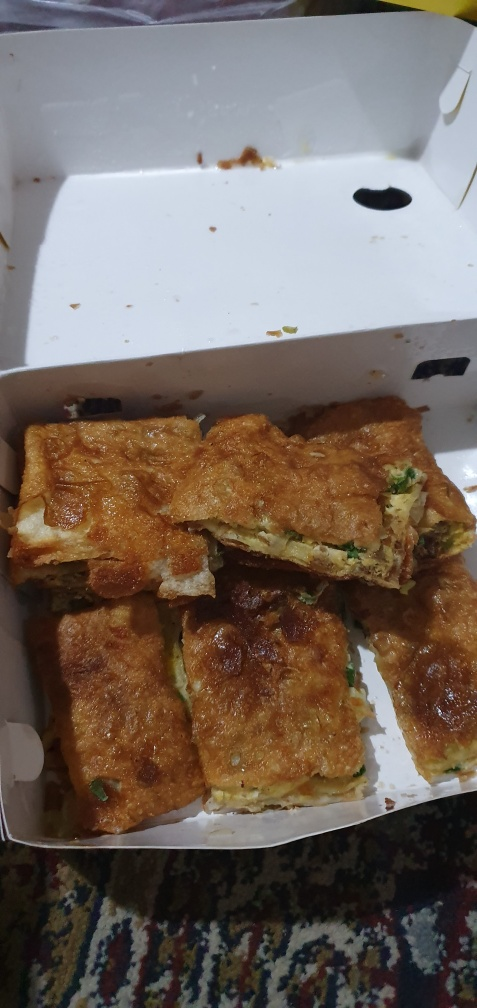martabak telor: (177, 572, 385, 800), (207, 388, 429, 593), (9, 400, 208, 606)
